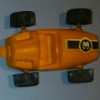naranja_este: (1, 7, 99, 86)
